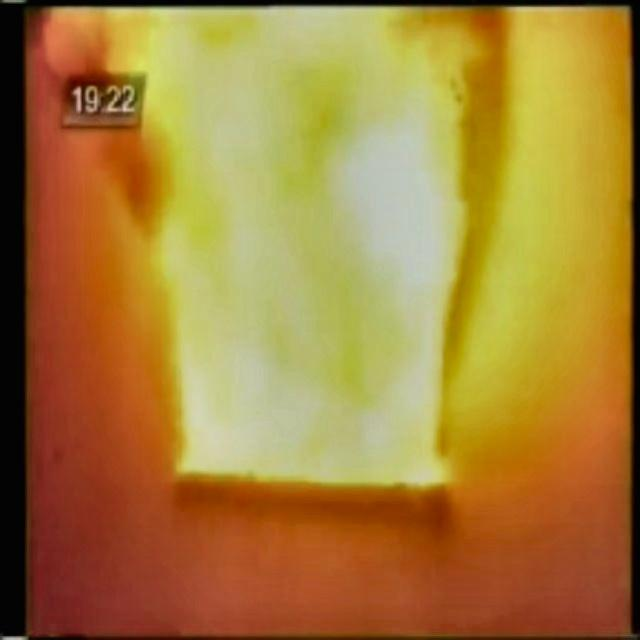fire: (64, 0, 542, 530)
